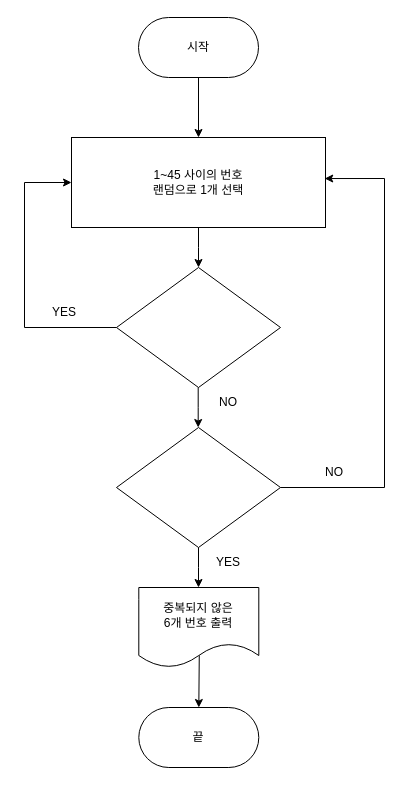
Some shapes in this 410 by 785 pixel diagram are drawn without their labels. The centre of each missing label's shape, as x and y in pixels:
"선택한 번호가 6개이다" goes at point 198,487.
"중복되는 번호가 있다" goes at point 198,327.
